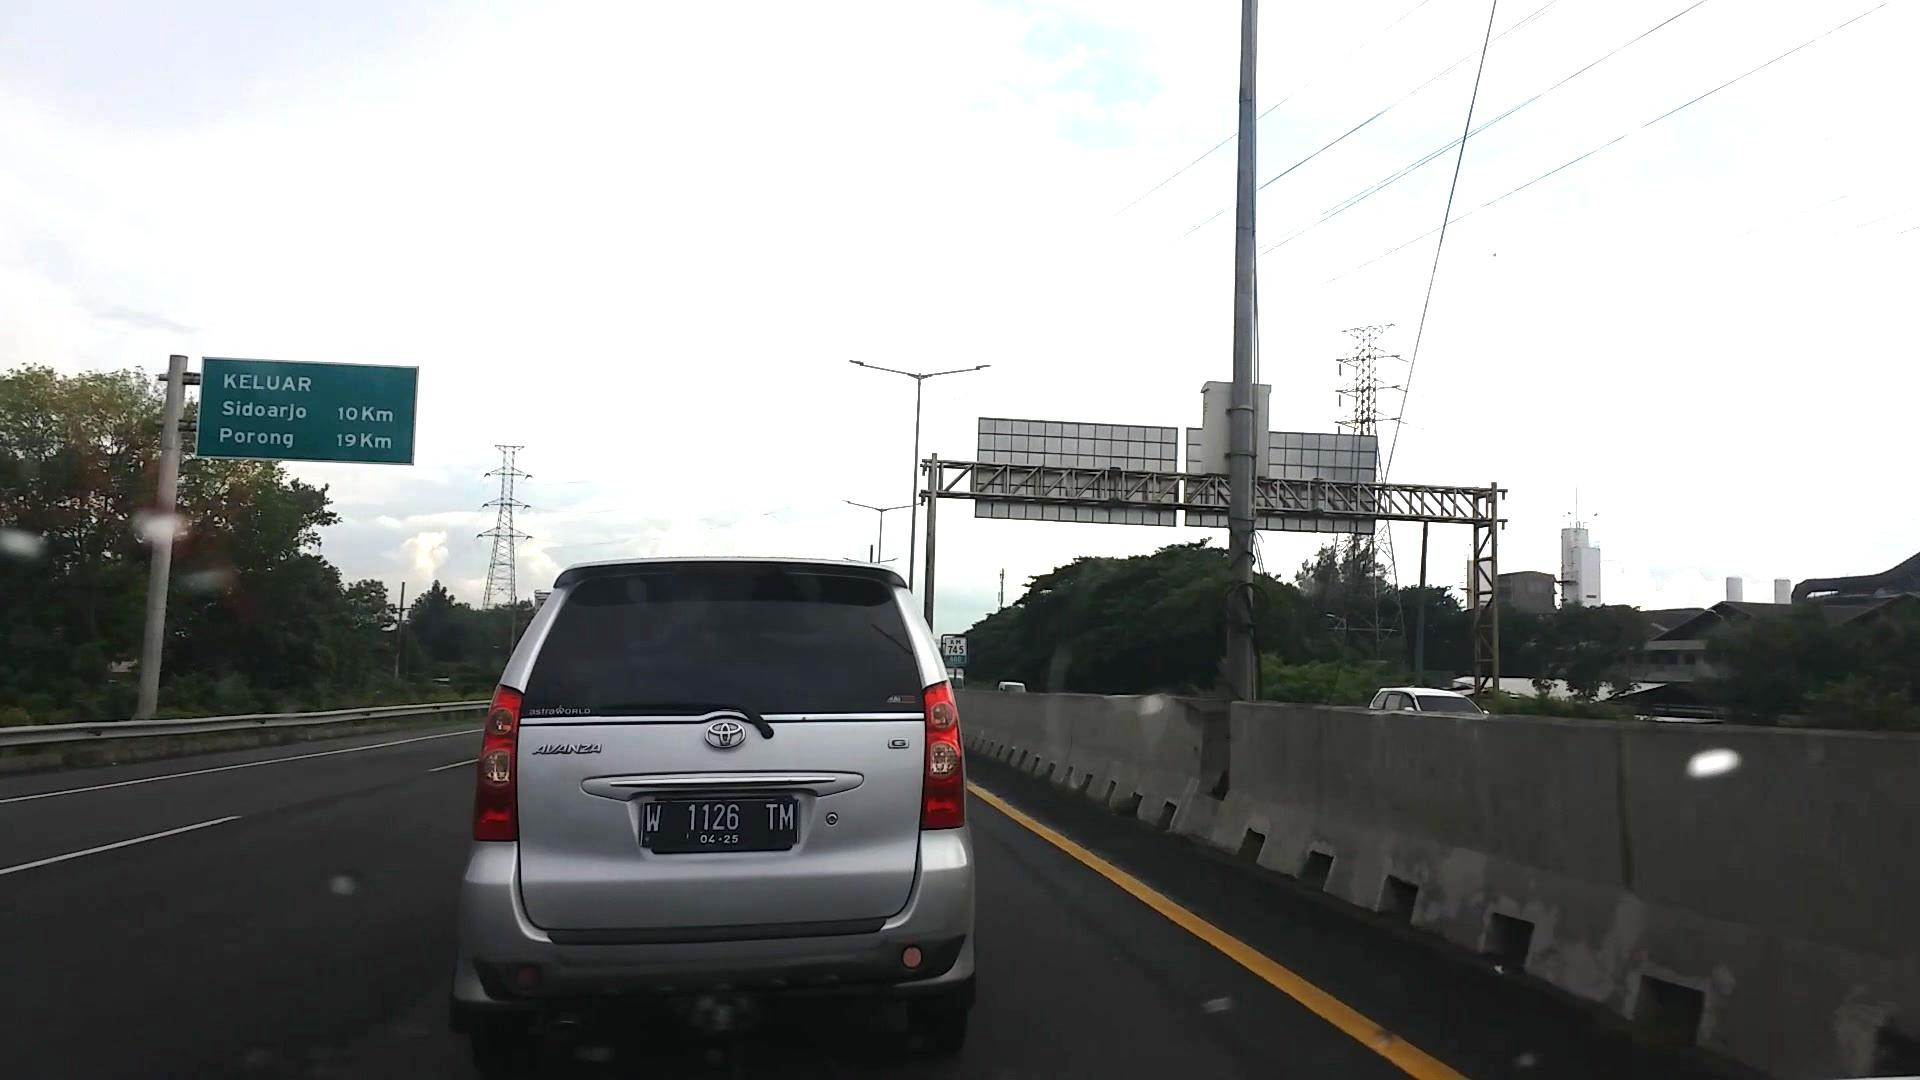plate_positive: (640, 800, 799, 845)
